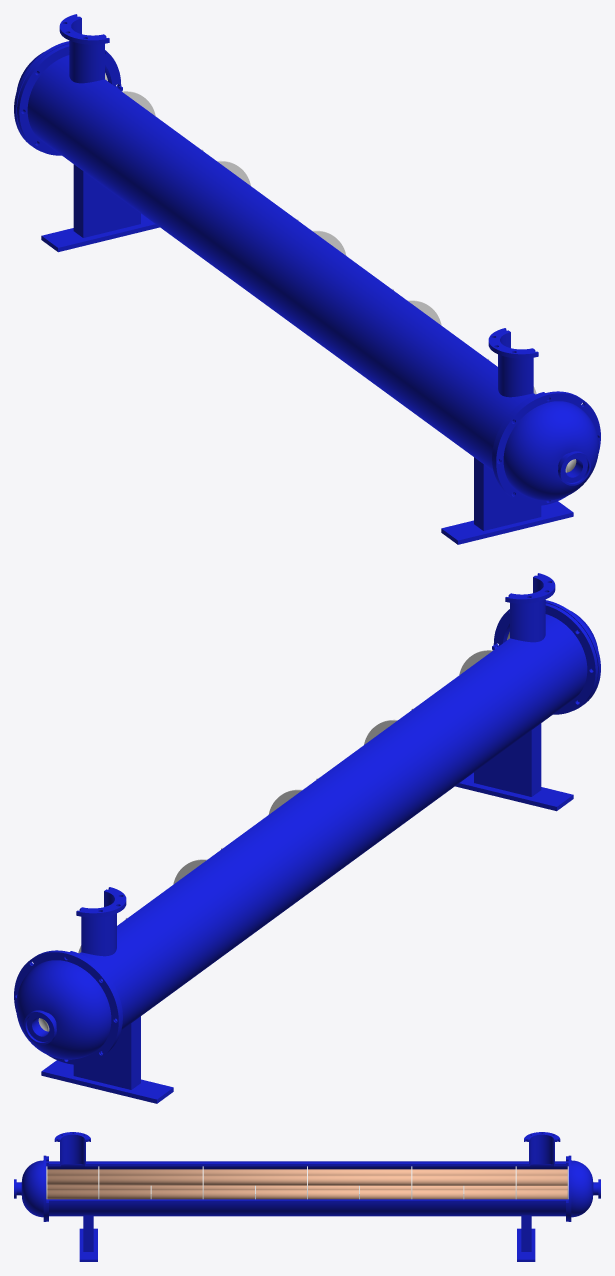
Rendered from simple-shell-and-tube-heat-exchanger.glb.
The picture shows the model from 3 angles, top to bottom: view 1: azimuth 30°, elevation 25°; view 2: azimuth 150°, elevation 25°; view 3: azimuth 270°, elevation 25°; orthographic projection. The views are drawn at different scales.
Visible parts, largest first — view 1: shell, H.25cut.011, H.25cut.012; view 2: shell, H.25cut.012, H.25cut.011; view 3: shell, H.25cut, H.25cut.015, H.25cut.011, H.25cut.012.
Boxes of the visible parts, x1,y1,x2,y2 form: shell: (17, 14, 573, 544); H.25cut.011: (493, 391, 600, 505); H.25cut.012: (14, 41, 121, 151); shell: (41, 573, 597, 1103); H.25cut.012: (14, 950, 121, 1064); H.25cut.011: (493, 600, 600, 710); shell: (46, 1132, 568, 1261); H.25cut: (47, 1169, 567, 1199); H.25cut.015: (47, 1175, 567, 1185); H.25cut.011: (14, 1155, 46, 1221); H.25cut.012: (568, 1155, 600, 1221).
Bounding box in the file's own units: 23.92 × 38.62 × 192.
